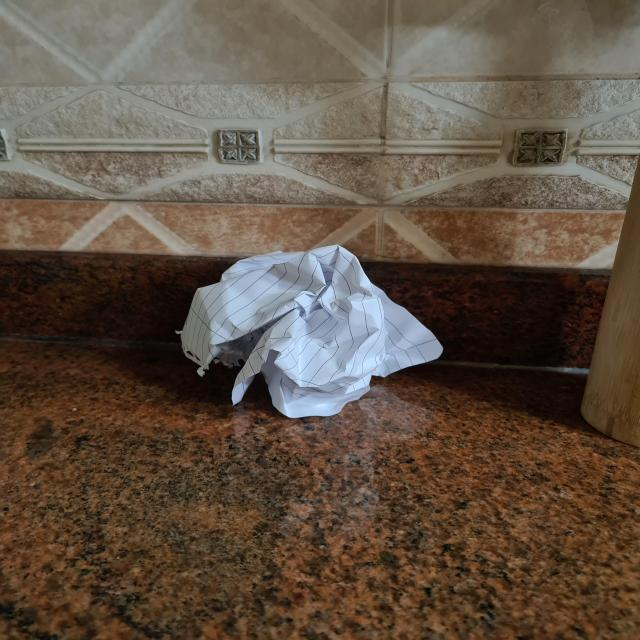paper: (176, 246, 436, 429)
